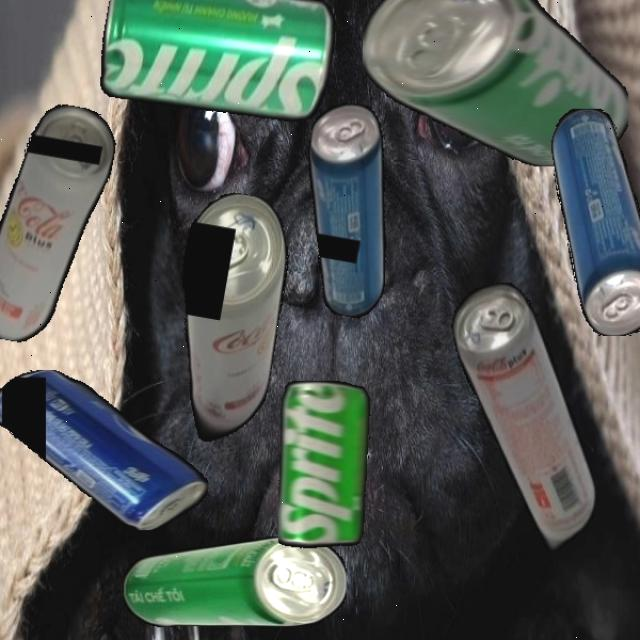debris: (445, 272, 605, 561), (362, 0, 628, 166), (153, 186, 300, 456), (0, 369, 208, 530), (93, 0, 340, 133), (0, 97, 121, 352), (281, 98, 414, 321), (550, 108, 640, 336), (278, 380, 399, 548), (122, 537, 346, 627)
